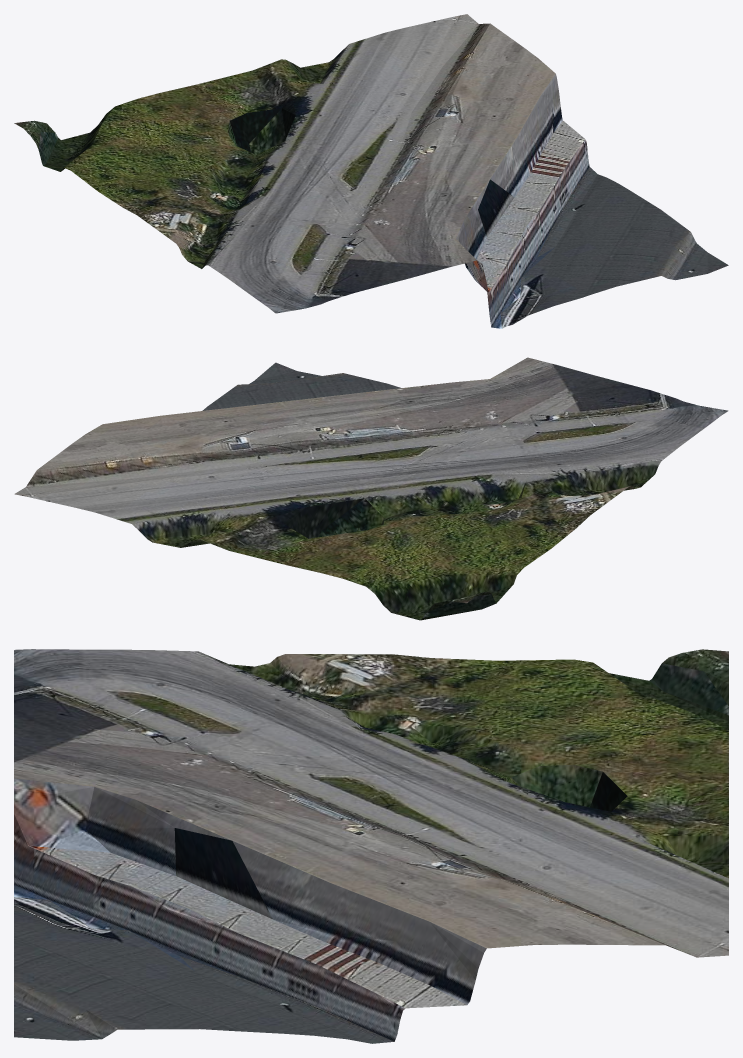
File: map_15_8180_13784.dae
3 views of the same model, one above another, from view 1: azimuth 30°, elevation 25°; view 2: azimuth 150°, elevation 25°; view 3: azimuth 270°, elevation 25° (orthographic). The views are drawn at different scales.
Parts seen in each view (by area): view 1: Ter0; view 2: Ter0; view 3: Ter0.
Boxes of the visible parts, x1=… form: Ter0: x1=14, y1=14, x2=728, y2=328; Ter0: x1=14, y1=357, x2=728, y2=620; Ter0: x1=14, y1=649, x2=728, y2=1043.
Size of the model in its own units: 63.88 by 63.88 by 10.24.
4 materials, 4 textured.
